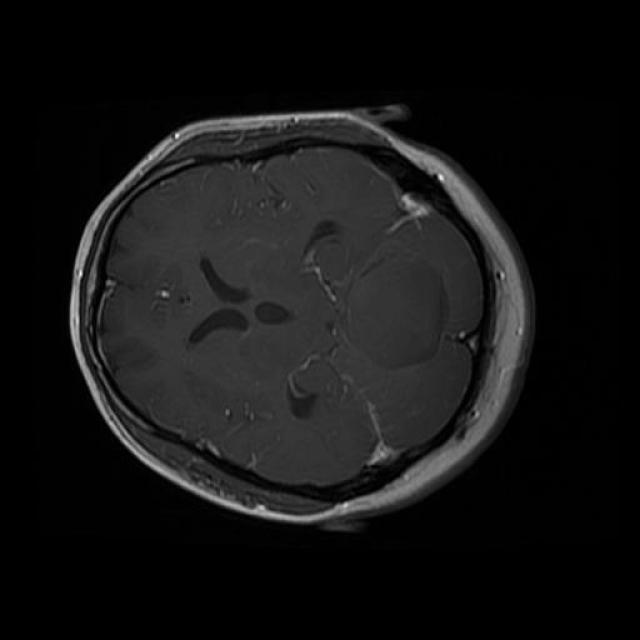Glioma: (304, 221, 447, 369)
